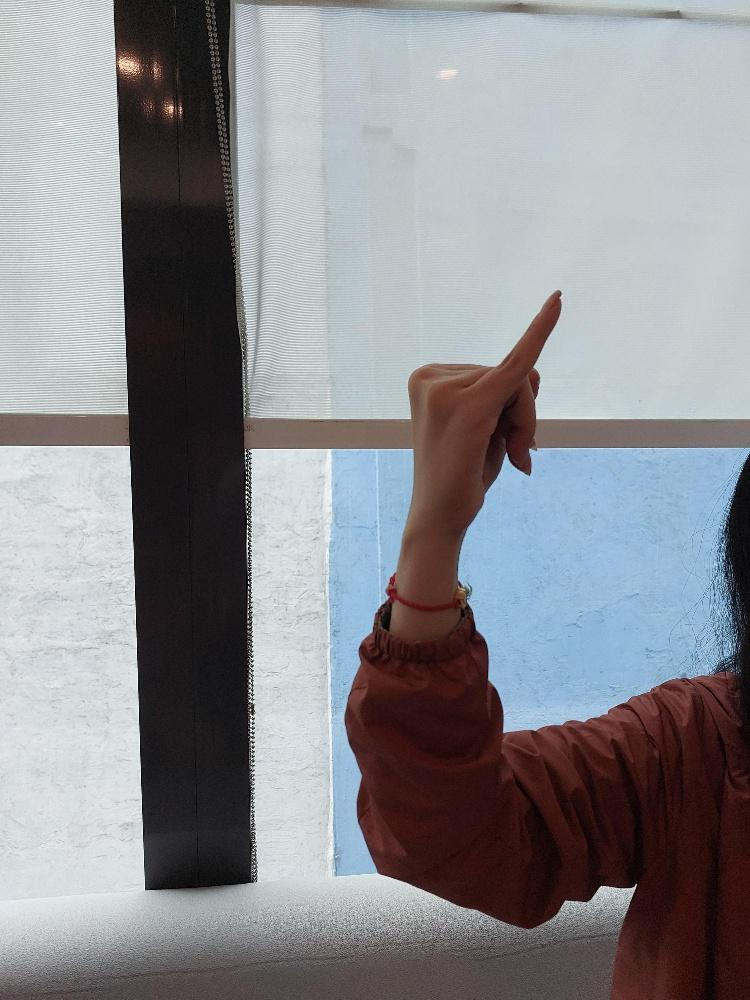j: (404, 286, 564, 536)
